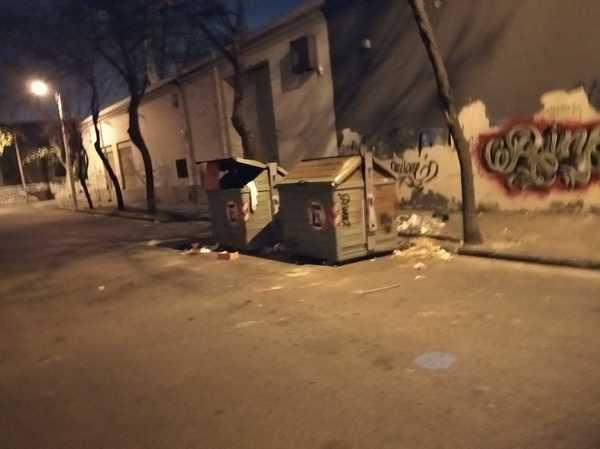Dechets: (393, 213, 453, 269), (147, 242, 240, 262)
Trash: (277, 151, 395, 263), (200, 158, 287, 251)
